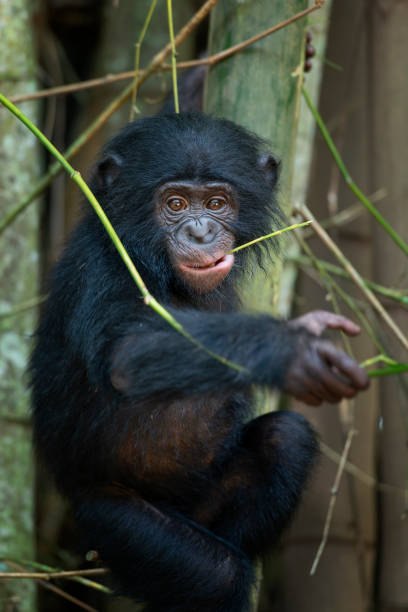chimpanzee: (66, 103, 293, 315)
